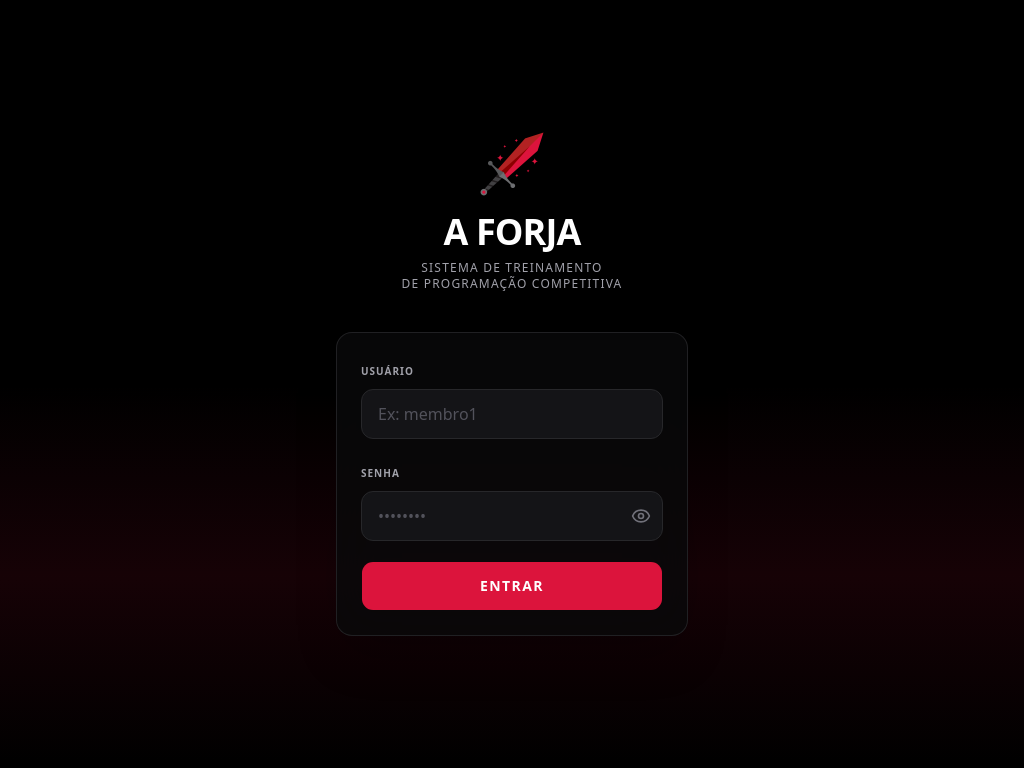
Test case: Login Page › apresentação do toast de erro em credenciais inválidas
Type "errado" into the field labelled "Usuário" at (512, 414), box [361, 389, 663, 439]
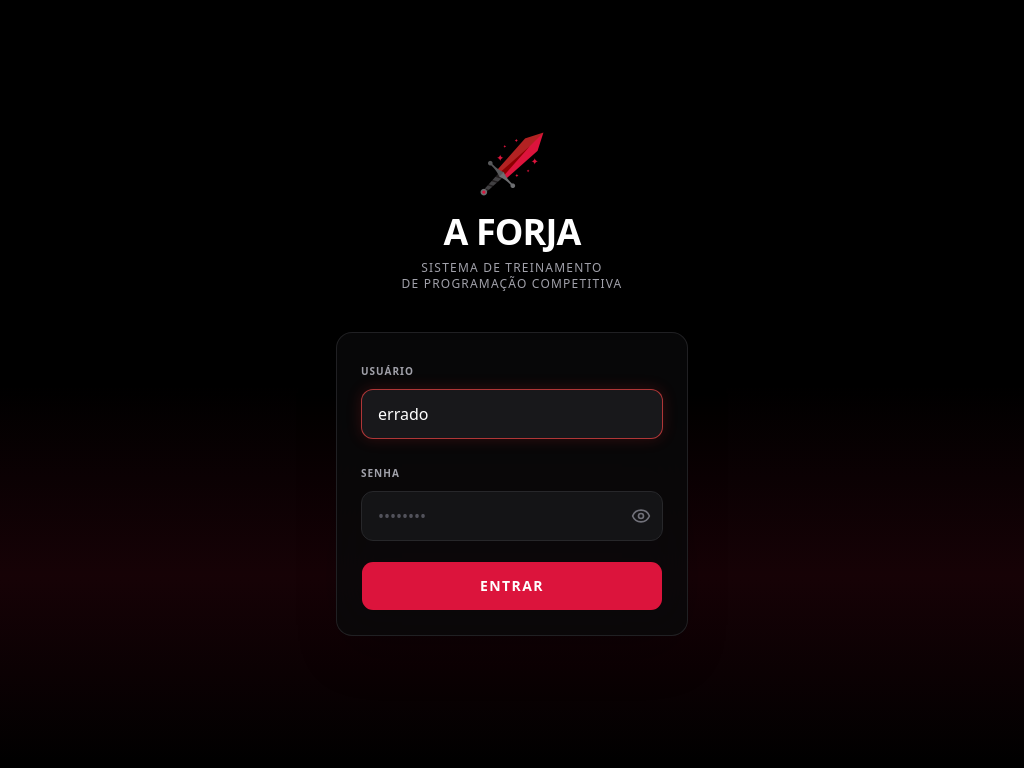
Type "errado" into the password field labelled "Senha" at (512, 516), box [361, 491, 663, 541]
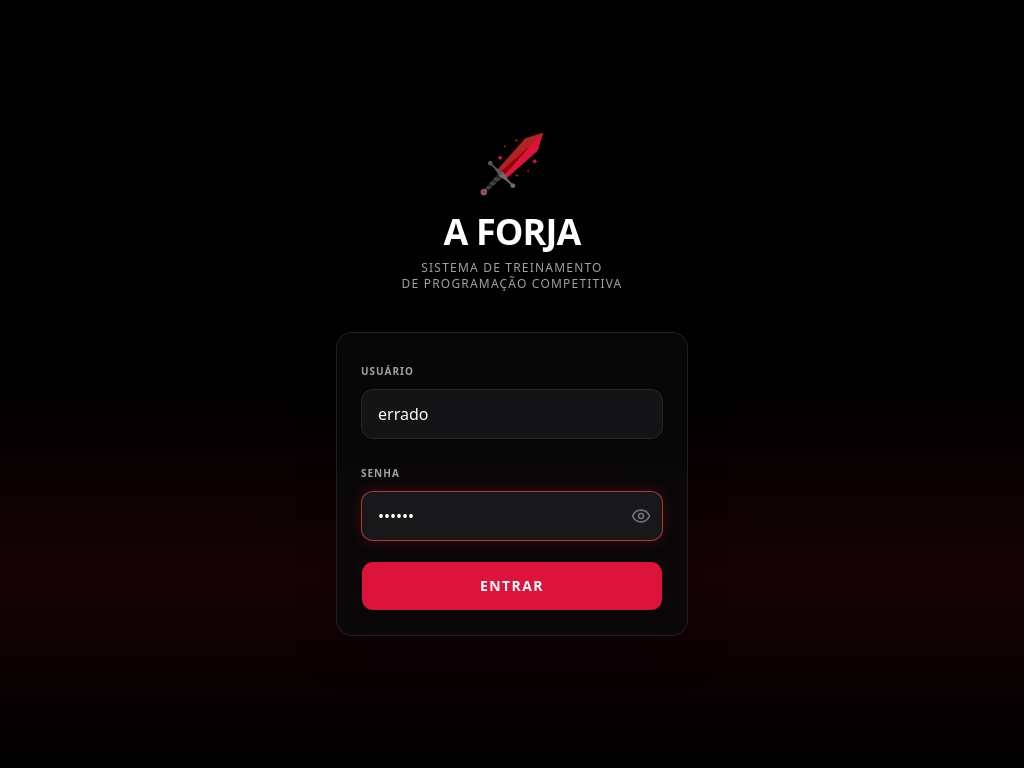
Click the button "Entrar" at (512, 586), box [361, 561, 663, 611]
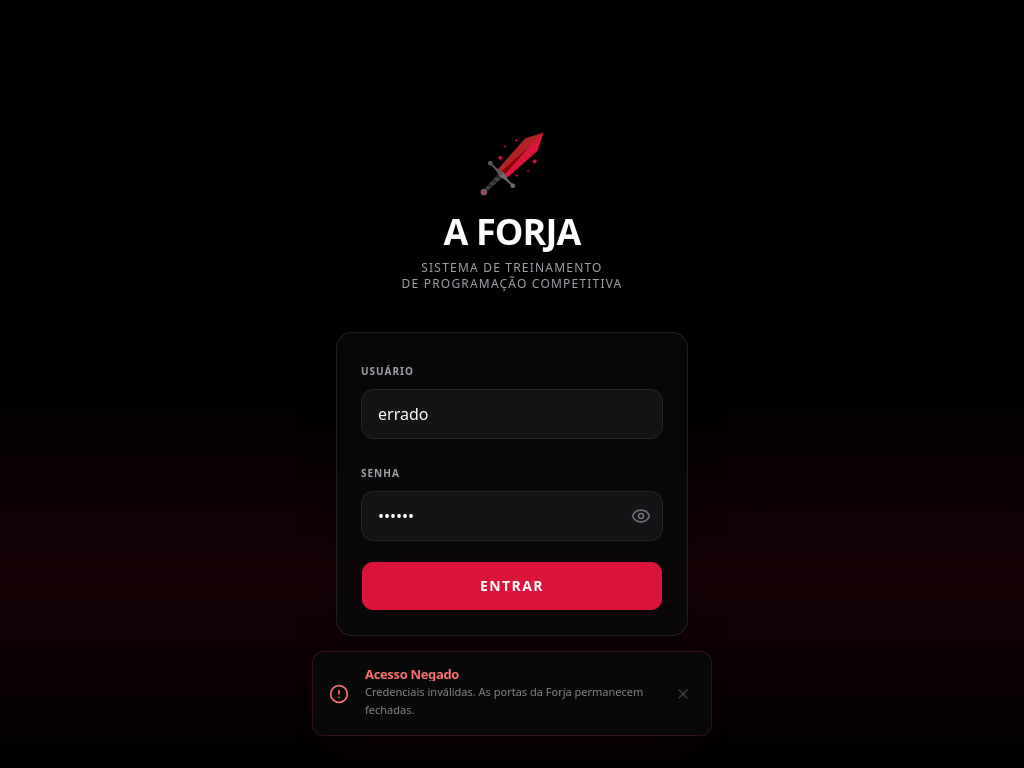
Check: the heading "Acesso Negado" is shown, box [365, 668, 459, 683]
Check: the text "Credenciais inválidas. As portas da Forja permanecem fechadas." is shown, box [365, 683, 651, 719]
